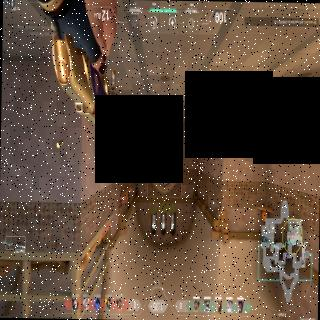ENEMY-BODY: (312, 112, 318, 134), (156, 142, 160, 158)
ENEMY-HEAD: (313, 126, 317, 133), (158, 154, 159, 158)
